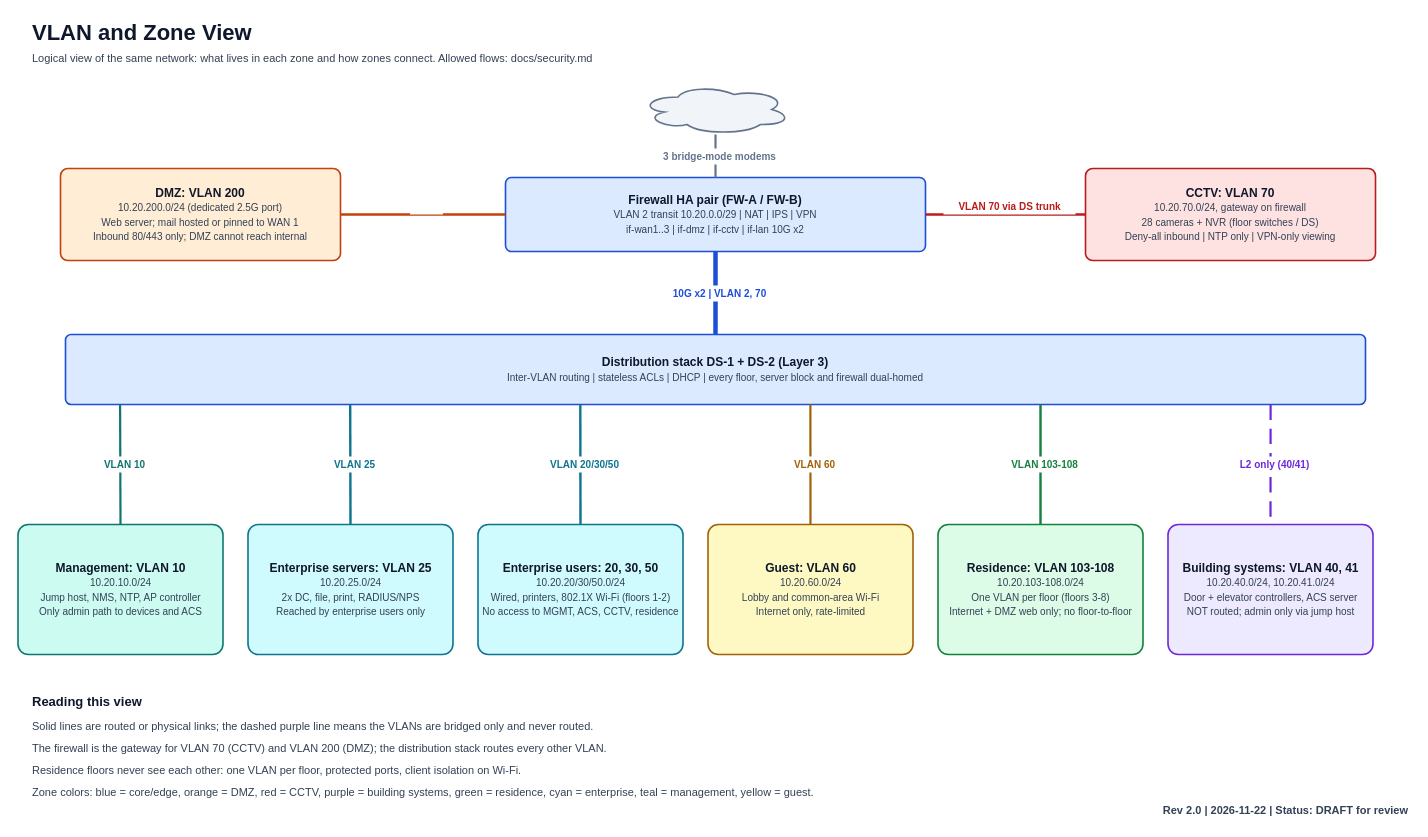
The diagram is 1428 pixels wide and 837 high, and some of its shapes have lost their labels. Here are the shapes that lost their labels. From the top down, the centre of each, then its label:
At point 715,109: "Internet (3 ISPs)".
At point 426,206: "2.5G".
